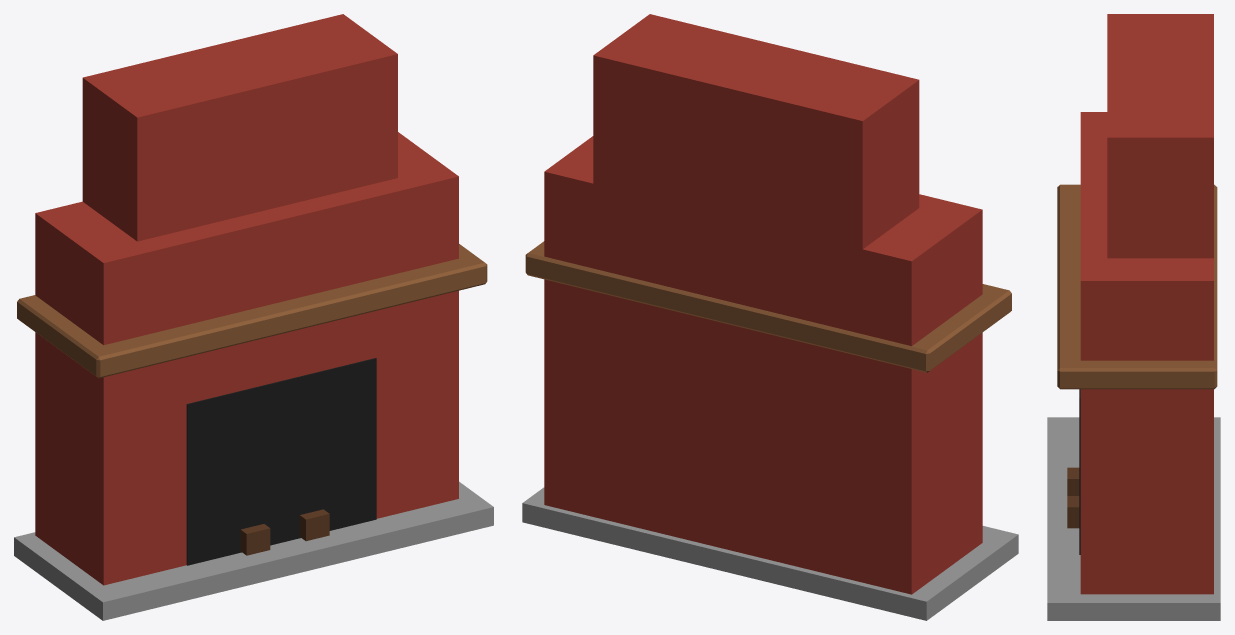
File: PRP_Fireplace.fbx
3 views of the same model, side by side, from view 1: azimuth 30°, elevation 25°; view 2: azimuth 150°, elevation 25°; view 3: azimuth 270°, elevation 25° (orthographic). The views are drawn at different scales.
Parts seen in each view (by area): view 1: PRP_Fireplace; view 2: PRP_Fireplace; view 3: PRP_Fireplace.
Part boxes in pixels (<box>): PRP_Fireplace: <box>14,14,493,620</box>; PRP_Fireplace: <box>522,14,1018,620</box>; PRP_Fireplace: <box>1047,14,1220,620</box>.
Bounding box in the file's own units: 6.6 × 7.5 × 2.6.
